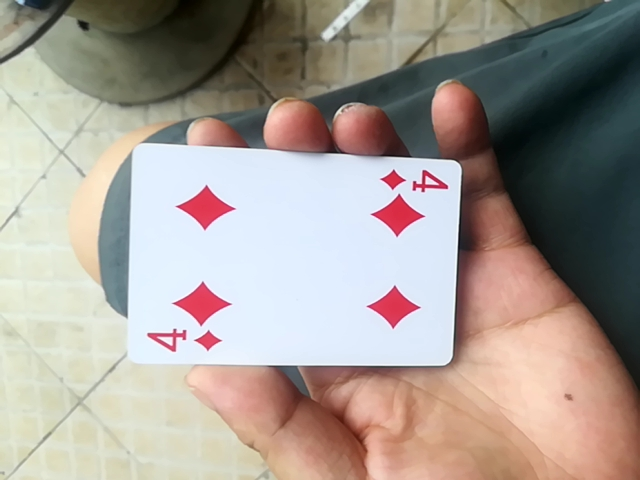fk 4: (120, 138, 469, 371)
